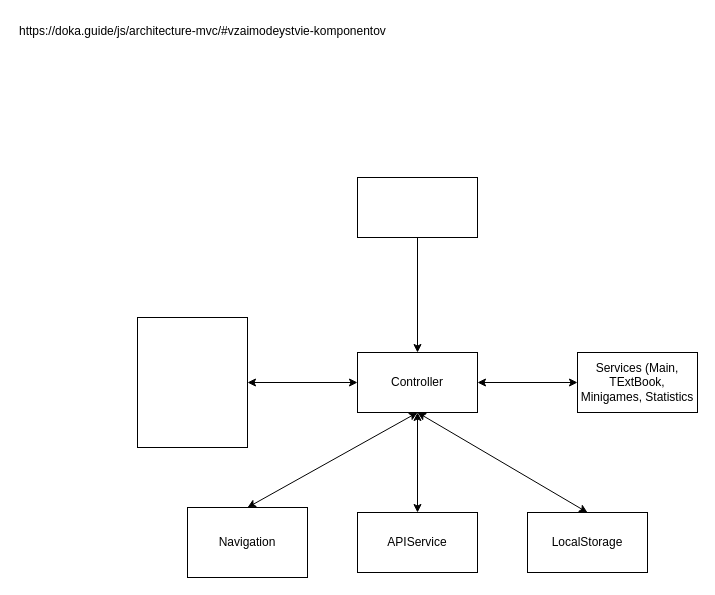
The diagram is 715 pixels wide and 595 high, and some of its shapes have lost their labels. Here are the shapes that lost their labels. From the top down, the box of each, then its label:
(356, 176, 478, 238): App
(136, 316, 248, 448): View (Main, TextBook, Minigames, Statistics)
